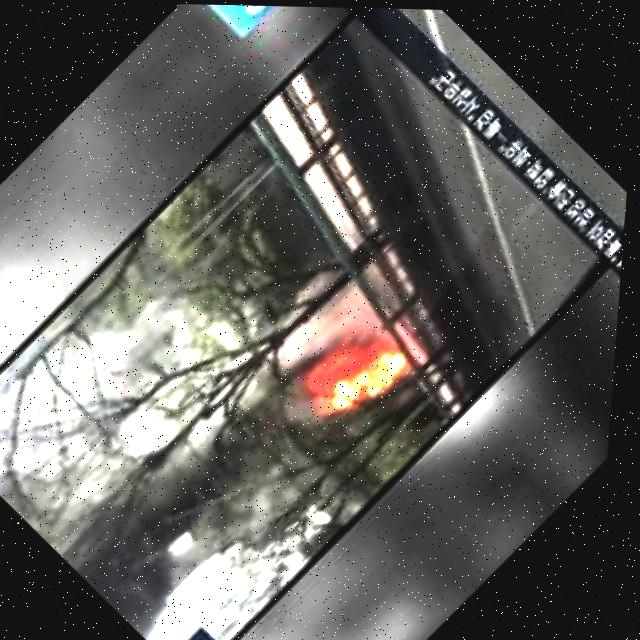Fire: (292, 302, 433, 439)
Smoke: (0, 300, 354, 640)
